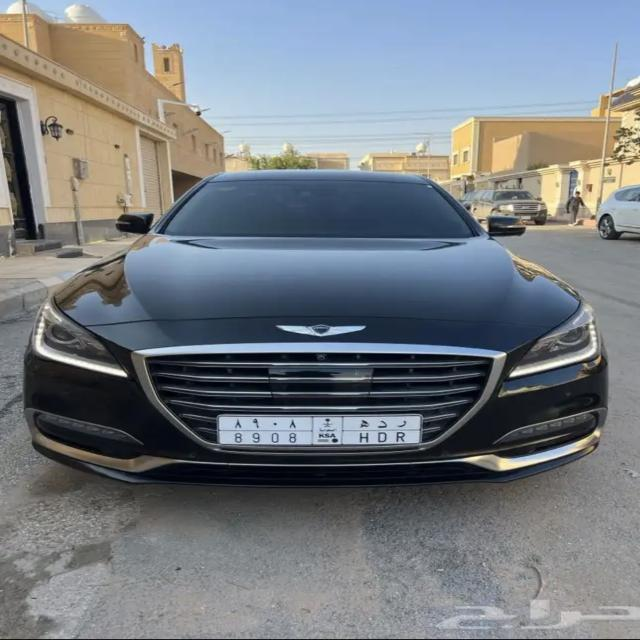license_plate: (218, 413, 424, 447)
